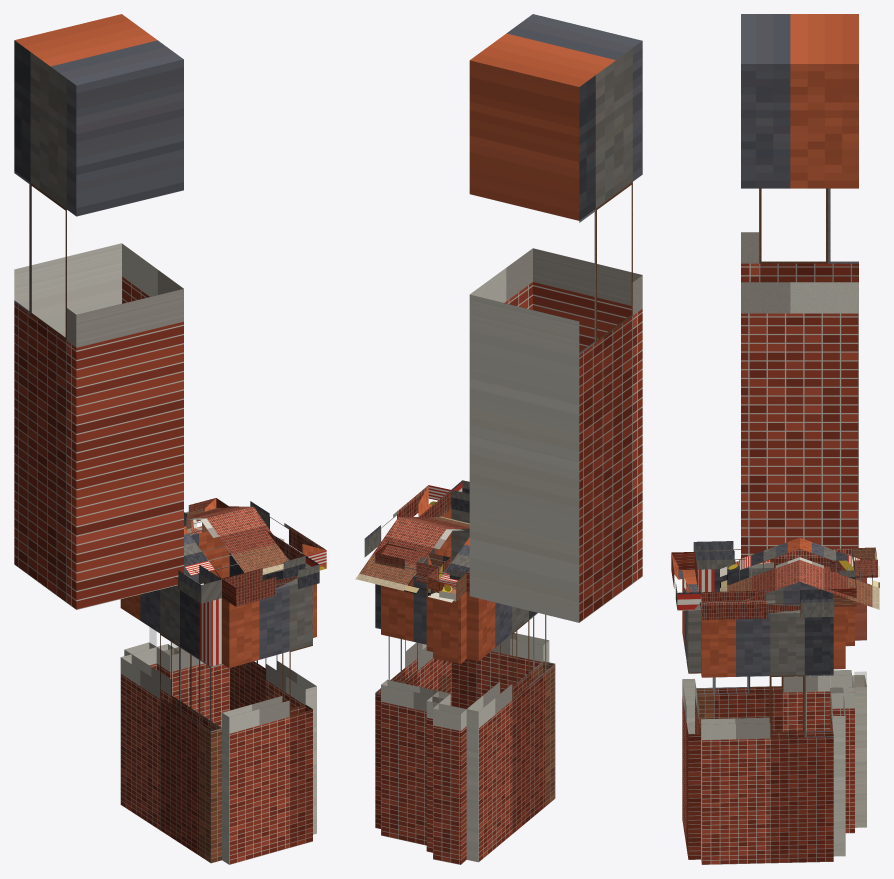
3 renders of one model, left to right at view 1: azimuth 30°, elevation 25°; view 2: azimuth 150°, elevation 25°; view 3: azimuth 270°, elevation 25°, orthographic. The views are drawn at different scales.
Visible parts, largest first — view 1: 1106965462__chimney_0_xb, 1106965462__wall_2_xb, 1106965462__wall_1_xb, 1106965462__wall_0_xb, 1106965462__wall_5_xb, 1106965462_roof_-1_xb, 1106965462__cornice_1, 1106965462__cornice_0, 1106965462__cornice_2, 1106965462__cornice_5; view 2: 1106965462__chimney_0_xb, 1106965462__wall_2_xb, 1106965462__wall_5_xb, 1106965462__wall_3_xb, 1106965462__wall_1_xb, 1106965462_roof_1_xb, 1106965462__wall_0_xb, 1106965462__wall_4_xb, 1106965462__cornice_0, 1106965462__cornice_3, 1106965462__cornice_4, 1106965462_roof_-1_xb; view 3: 1106965462__chimney_0_xb, 1106965462__wall_0_xb, 1106965462__wall_2_xb, 1106965462__wall_1_xb, 1106965462__cornice_0, 1106965462__wall_5_xb, 1106965462_roof_1_xb, 1106965462_roof_-1_xb, 1106965462__wall_3_xb, 1106965462__wall_4_xb, 1106965462__cornice_2, 1106965462__cornice_1 (+2 smaller).
Boxes of the visible parts, bbox=[...] form: 1106965462__chimney_0_xb: bbox=[14, 14, 183, 609]; 1106965462__wall_2_xb: bbox=[120, 573, 221, 863]; 1106965462__wall_1_xb: bbox=[222, 578, 312, 864]; 1106965462__wall_0_xb: bbox=[229, 553, 316, 834]; 1106965462__wall_5_xb: bbox=[163, 526, 229, 727]; 1106965462_roof_-1_xb: bbox=[184, 507, 288, 584]; 1106965462__cornice_1: bbox=[222, 556, 319, 606]; 1106965462__cornice_0: bbox=[229, 501, 326, 570]; 1106965462__cornice_2: bbox=[174, 565, 221, 603]; 1106965462__cornice_5: bbox=[184, 498, 229, 535]; 1106965462__chimney_0_xb: bbox=[469, 14, 642, 622]; 1106965462__wall_2_xb: bbox=[466, 592, 555, 862]; 1106965462__wall_5_xb: bbox=[381, 574, 443, 845]; 1106965462__wall_3_xb: bbox=[433, 589, 466, 864]; 1106965462__wall_1_xb: bbox=[451, 509, 549, 708]; 1106965462_roof_1_xb: bbox=[355, 517, 469, 602]; 1106965462__wall_0_xb: bbox=[375, 509, 451, 828]; 1106965462__wall_4_xb: bbox=[426, 583, 450, 852]; 1106965462__cornice_0: bbox=[364, 485, 451, 557]; 1106965462__cornice_3: bbox=[428, 567, 466, 601]; 1106965462__cornice_4: bbox=[416, 552, 450, 583]; 1106965462_roof_-1_xb: bbox=[398, 516, 469, 530]; 1106965462__chimney_0_xb: bbox=[741, 14, 858, 562]; 1106965462__wall_0_xb: bbox=[701, 610, 833, 864]; 1106965462__wall_2_xb: bbox=[696, 563, 851, 732]; 1106965462__wall_1_xb: bbox=[682, 569, 700, 859]; 1106965462__cornice_0: bbox=[701, 589, 834, 619]; 1106965462__wall_5_xb: bbox=[830, 606, 845, 856]; 1106965462_roof_1_xb: bbox=[800, 538, 879, 609]; 1106965462_roof_-1_xb: bbox=[720, 538, 799, 601]; 1106965462__wall_3_xb: bbox=[852, 578, 866, 827]; 1106965462__wall_4_xb: bbox=[831, 606, 854, 833]; 1106965462__cornice_2: bbox=[693, 541, 851, 569]; 1106965462__cornice_1: bbox=[671, 552, 700, 610].
Size of the model in its own units: 0.321 by 1.05 by 0.2647.
1 material, 1 textured.
